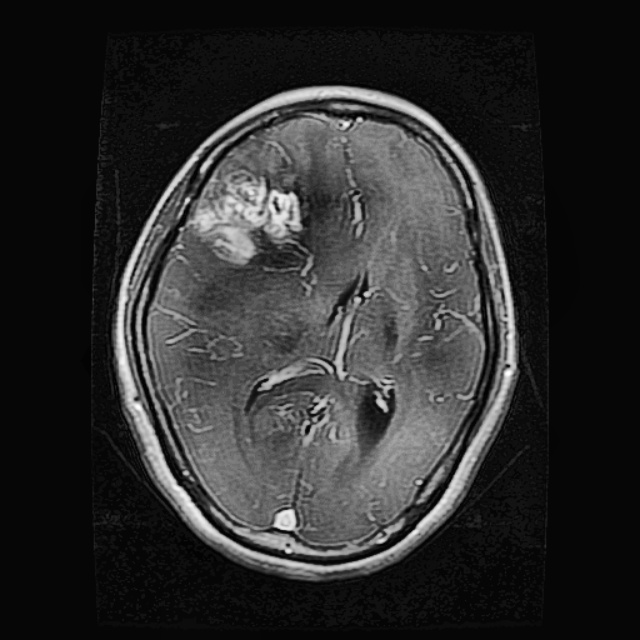Glioma: (188, 132, 310, 269)
